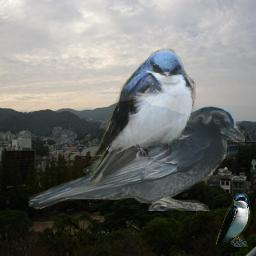Crow: (27, 105, 245, 211)
Swallow: (86, 48, 196, 185), (216, 193, 251, 247)
